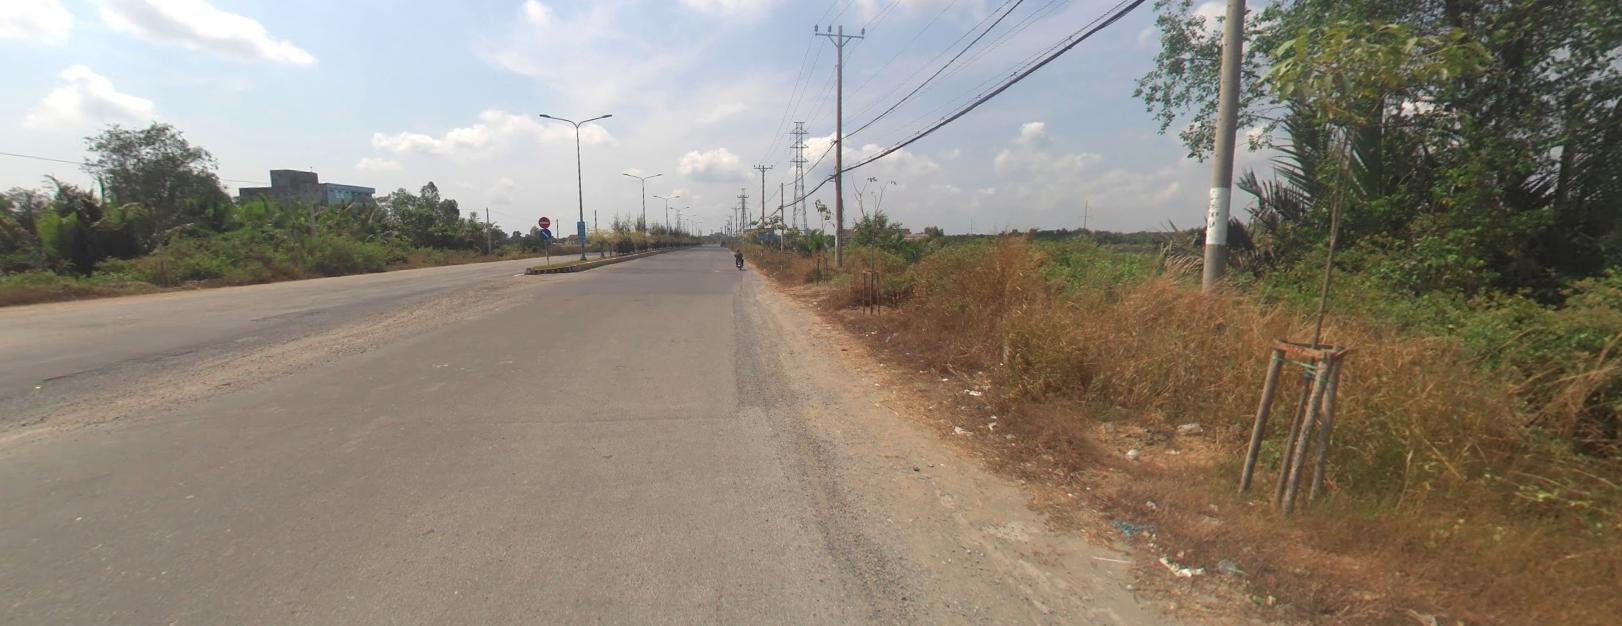Cam nguoc chieu: (538, 216, 549, 226)
Hieu lenh: (539, 227, 549, 238)
